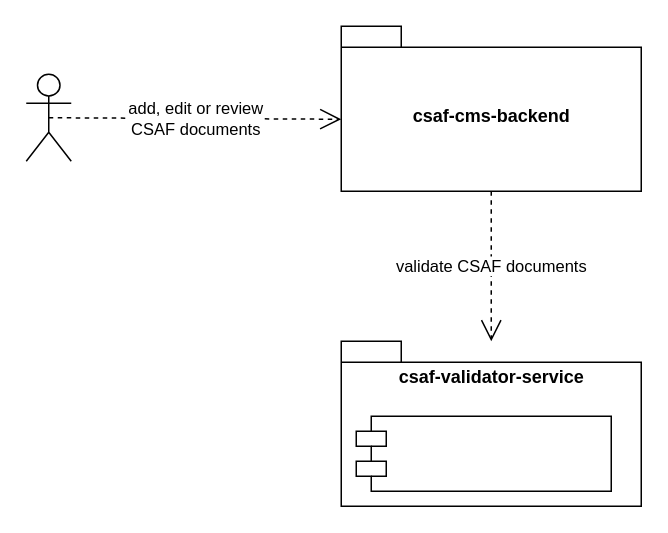
Some shapes in this 668 by 533 pixel diagram are drawn without their labels. Here are the shapes that lost their labels. From the top down, the centre of each, then its label:
the point at 48,117: Client
the point at 483,453: csaf-validator-lib
